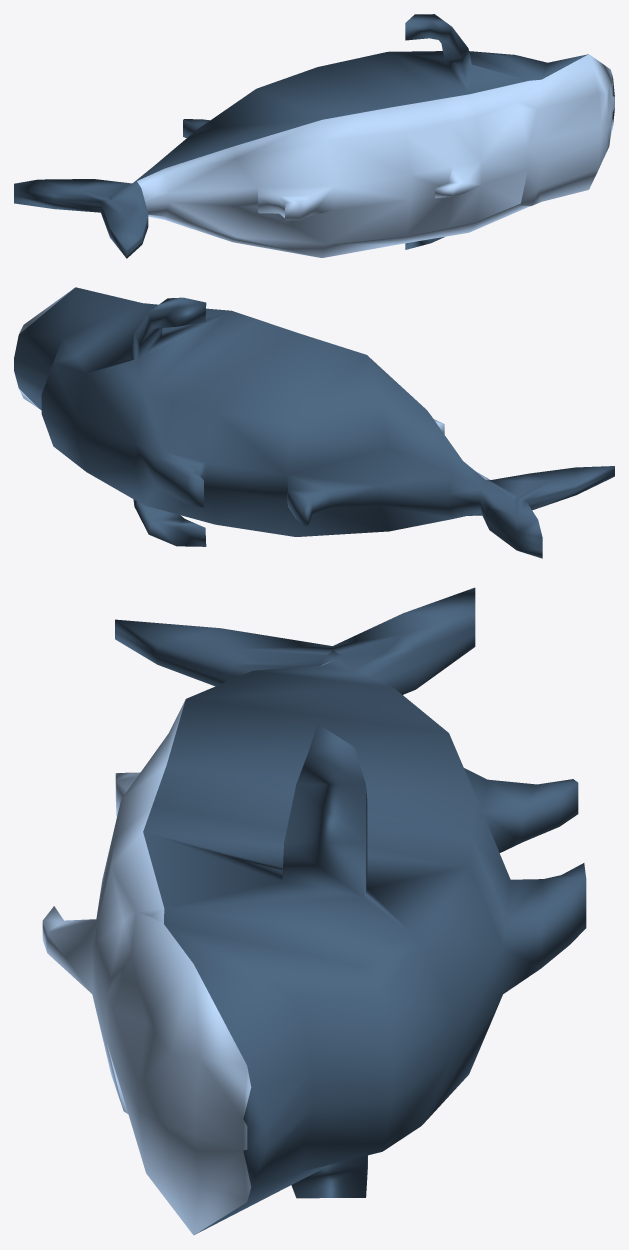
Rendered from catfish_meat_raw.glb.
The picture shows the model from 3 angles, top to bottom: view 1: azimuth 30°, elevation 25°; view 2: azimuth 150°, elevation 25°; view 3: azimuth 270°, elevation 25°; orthographic projection. The views are drawn at different scales.
Visible parts, largest first — view 1: catfish_meat_raw; view 2: catfish_meat_raw; view 3: catfish_meat_raw.
Boxes of the visible parts, <box> form: catfish_meat_raw: <box>14,14,614,258</box>; catfish_meat_raw: <box>14,287,614,558</box>; catfish_meat_raw: <box>42,587,586,1235</box>.
Bounding box in the file's own units: 0.3796 × 0.1514 × 0.1642.
